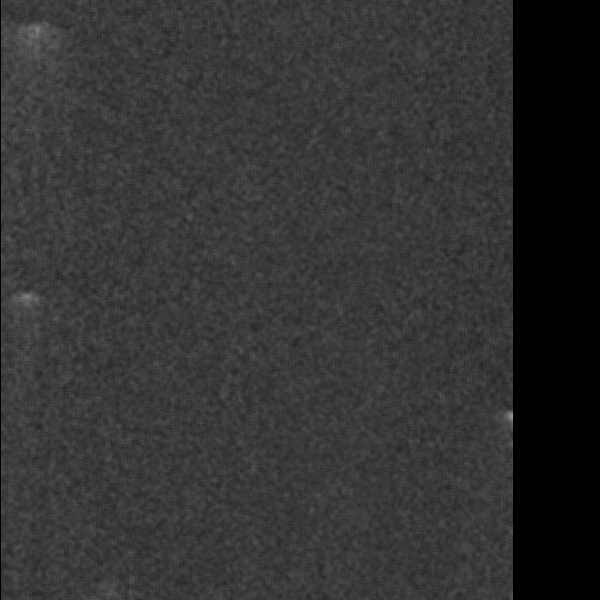spark: (459, 429, 512, 524), (290, 198, 334, 253), (375, 139, 423, 188), (49, 287, 78, 364)
